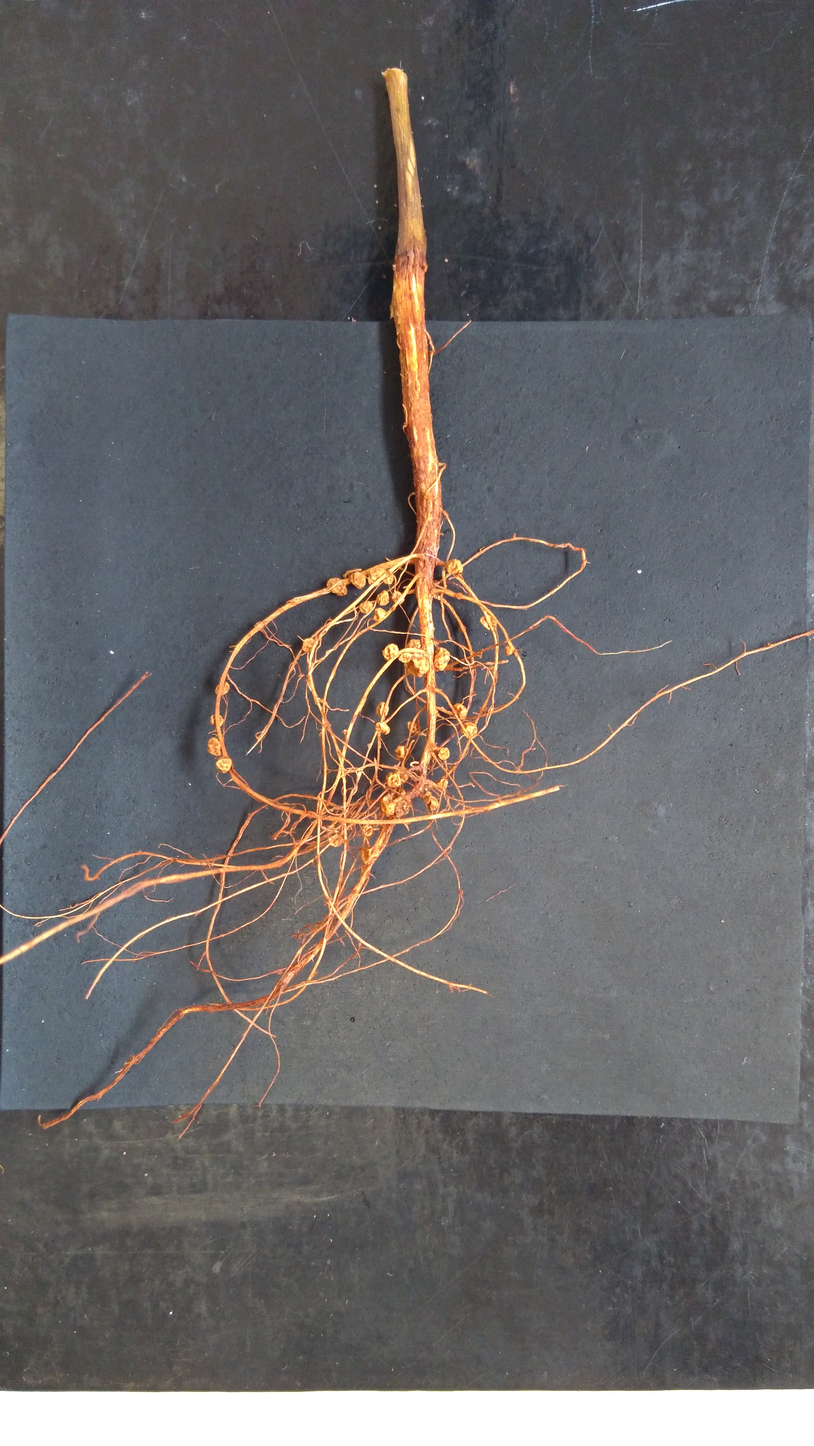nodule: (402, 651, 430, 679), (325, 575, 348, 598), (432, 645, 450, 674), (444, 556, 464, 578), (379, 641, 399, 661), (460, 721, 480, 741), (360, 845, 380, 865), (379, 794, 395, 818), (349, 570, 367, 591), (421, 789, 439, 810), (214, 755, 233, 774), (374, 700, 392, 720), (206, 735, 222, 757), (451, 701, 468, 721), (479, 612, 492, 636), (385, 770, 402, 788), (394, 799, 411, 817), (327, 833, 346, 849), (389, 589, 405, 607), (405, 635, 423, 651), (375, 589, 390, 607), (213, 681, 231, 696), (301, 636, 316, 653), (374, 721, 391, 736), (360, 822, 375, 839), (208, 713, 225, 728), (372, 606, 386, 624), (393, 743, 407, 761), (437, 745, 451, 763), (405, 719, 420, 734), (382, 569, 395, 586), (366, 574, 381, 588), (357, 601, 372, 615), (368, 567, 386, 578), (503, 642, 513, 659), (437, 779, 449, 790), (399, 652, 410, 663)
